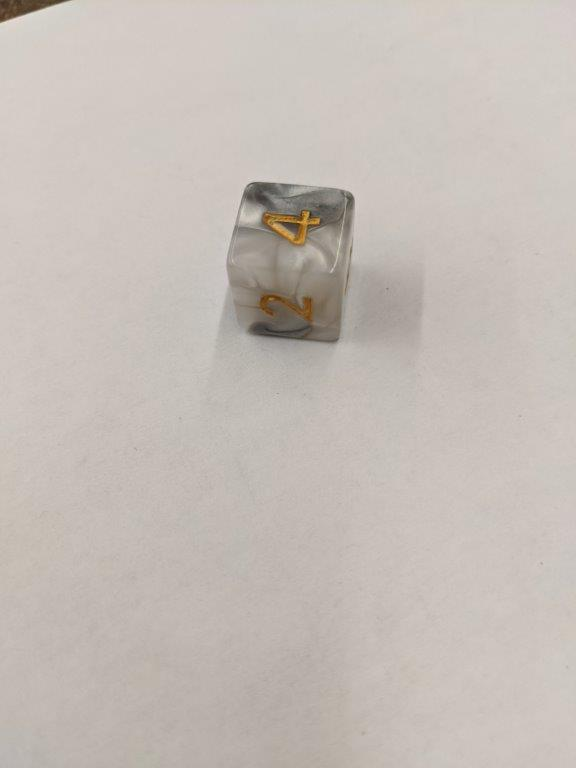d6-4: (226, 181, 357, 342)
